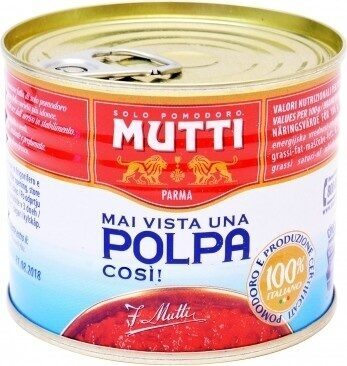Polpa: (17, 18, 330, 348)
